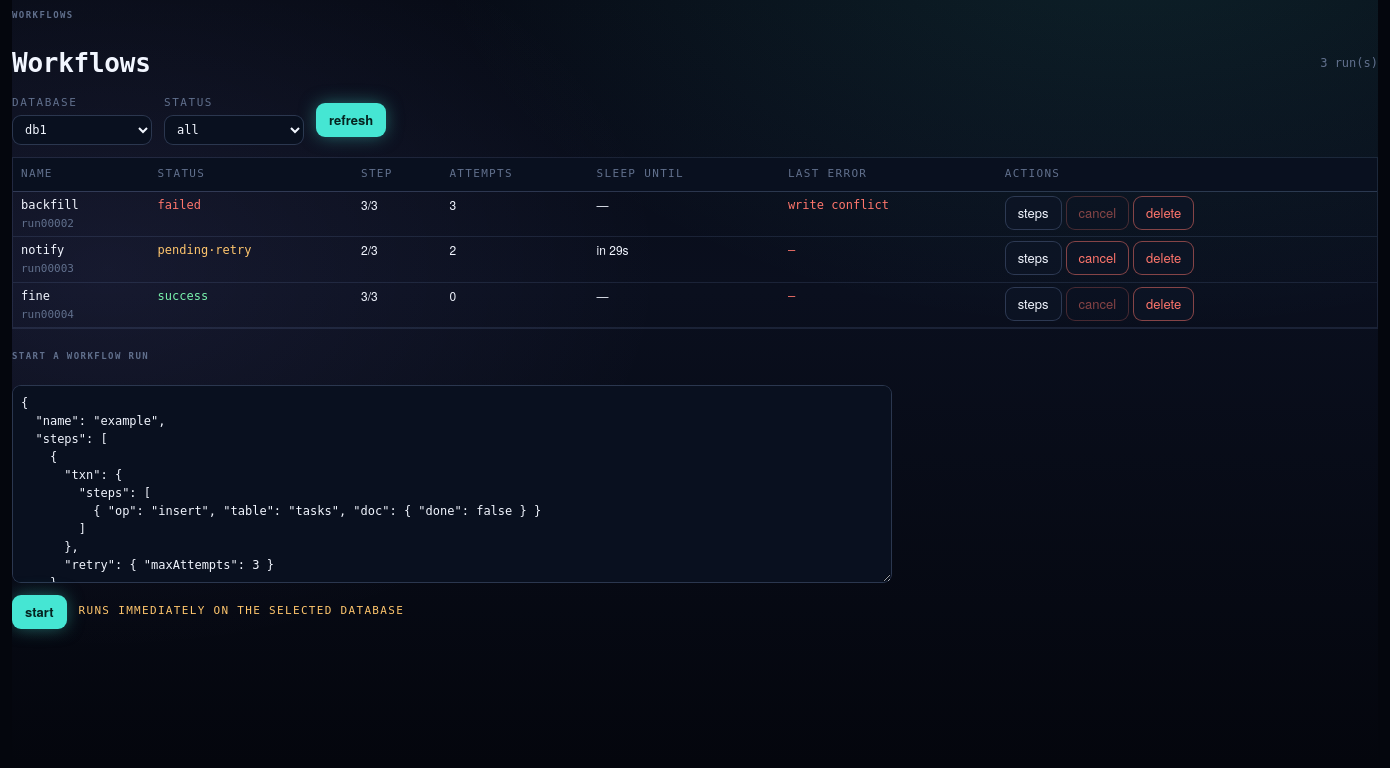
WorkflowsPage › filters the stuck preset client-side to failed or retrying runs
Select "stuck" in the dropdown labelled "status": (234, 130) [164,115,304,145]
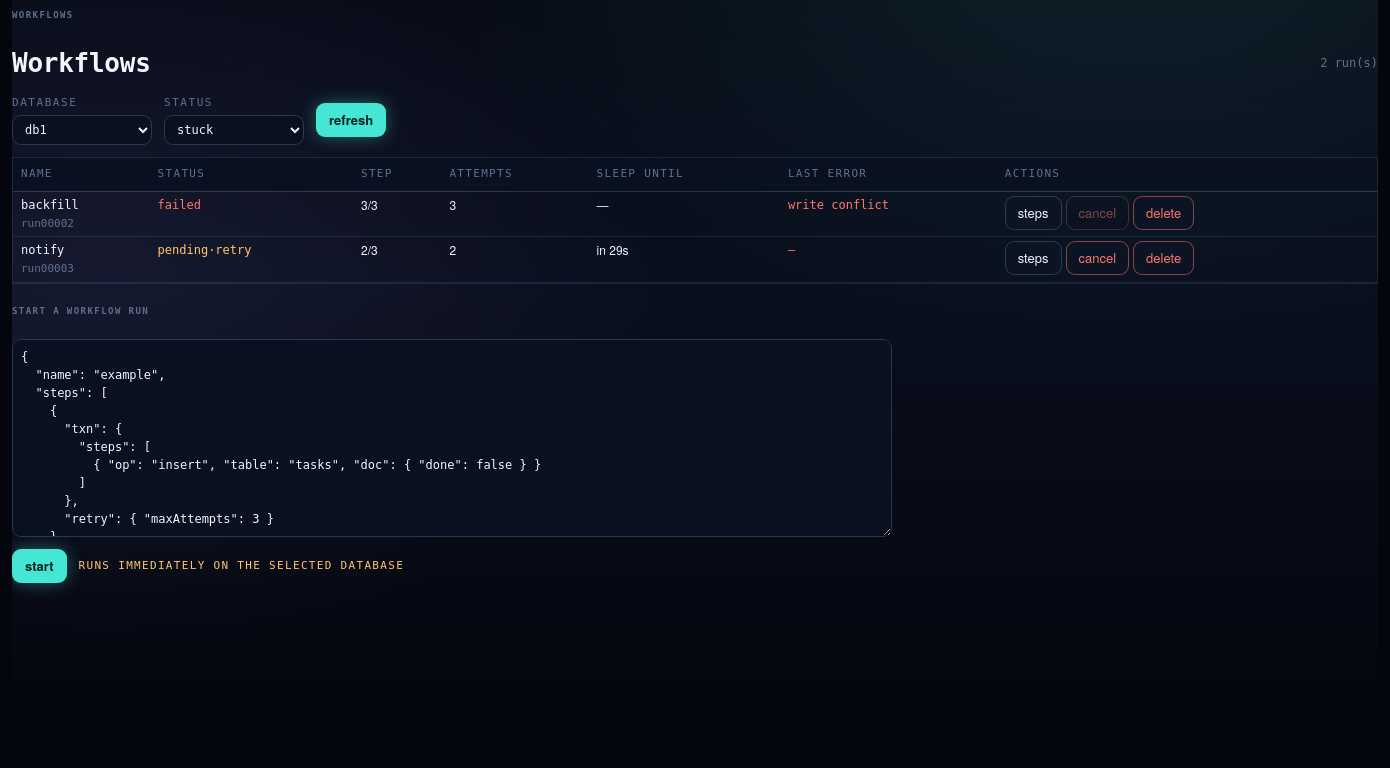
Expected: the text "backfill" is shown, [21,198,79,212]
Now the text "fine" is gone
